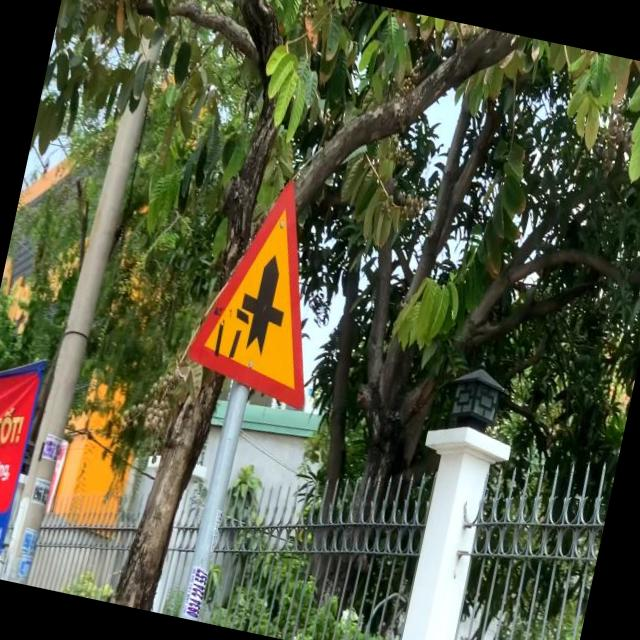W-207a: (184, 165, 352, 412)
